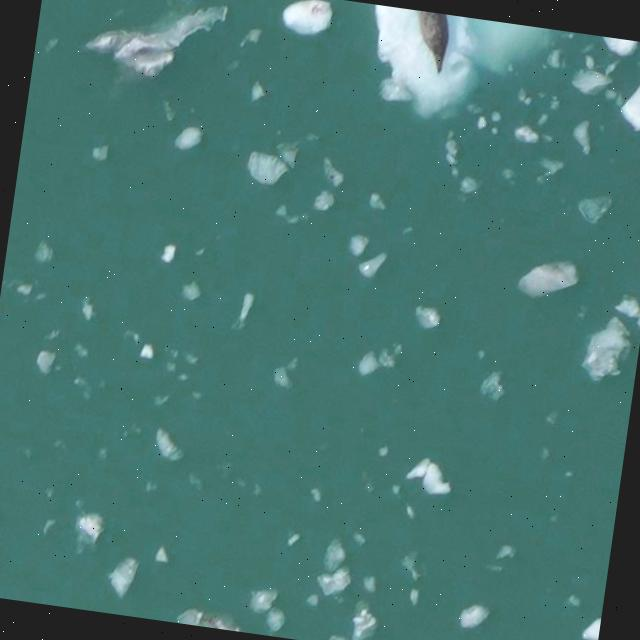seal: (414, 10, 449, 75)
